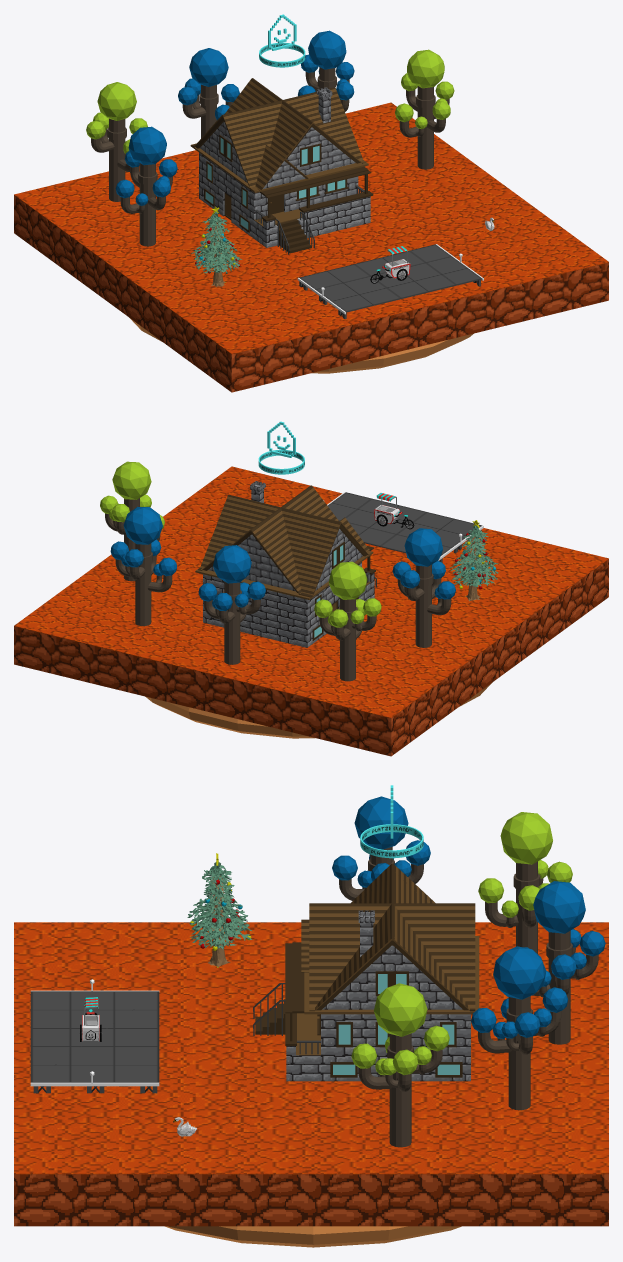
The picture shows the model from 3 angles, top to bottom: view 1: azimuth 30°, elevation 25°; view 2: azimuth 150°, elevation 25°; view 3: azimuth 270°, elevation 25°; orthographic projection. The views are drawn at different scales.
Parts seen in each view (by area): view 1: Cube.001, Cube.586, OBJRANDOM_CHRISTMAS_TREE, UNDERGROUND_PIZZA, TYPE_PREMIUM, VEHICLES_SNOWBAL_BIKE; view 2: Cube.001, Cube.586, OBJRANDOM_CHRISTMAS_TREE, UNDERGROUND_PIZZA, TYPE_PREMIUM, VEHICLES_SNOWBAL_BIKE; view 3: Cube.001, Cube.586, UNDERGROUND_PIZZA, OBJRANDOM_CHRISTMAS_TREE, TYPE_PREMIUM, VEHICLES_SNOWBAL_BIKE.
Part boxes in pixels (x1,y1,x2,y2): Cube.001: (14,30,608,392); Cube.586: (190,78,373,254); OBJRANDOM_CHRISTMAS_TREE: (191,206,241,286); UNDERGROUND_PIZZA: (130,318,473,373); TYPE_PREMIUM: (259,14,305,67); VEHICLES_SNOWBAL_BIKE: (370,246,410,283); Cube.001: (14,461,608,756); Cube.586: (195,481,376,647); OBJRANDOM_CHRISTMAS_TREE: (450,520,498,601); UNDERGROUND_PIZZA: (145,682,492,738); TYPE_PREMIUM: (258,421,304,474); VEHICLES_SNOWBAL_BIKE: (374,493,414,529); Cube.001: (14,796,608,1226); Cube.586: (253,863,479,1081); UNDERGROUND_PIZZA: (165,1226,461,1247); OBJRANDOM_CHRISTMAS_TREE: (187,853,252,967); TYPE_PREMIUM: (360,785,423,858); VEHICLES_SNOWBAL_BIKE: (79,997,102,1041).
Bounding box in the file's own units: 4000 × 2622 × 4000.
Materials: 38 (6 with a texture image).
